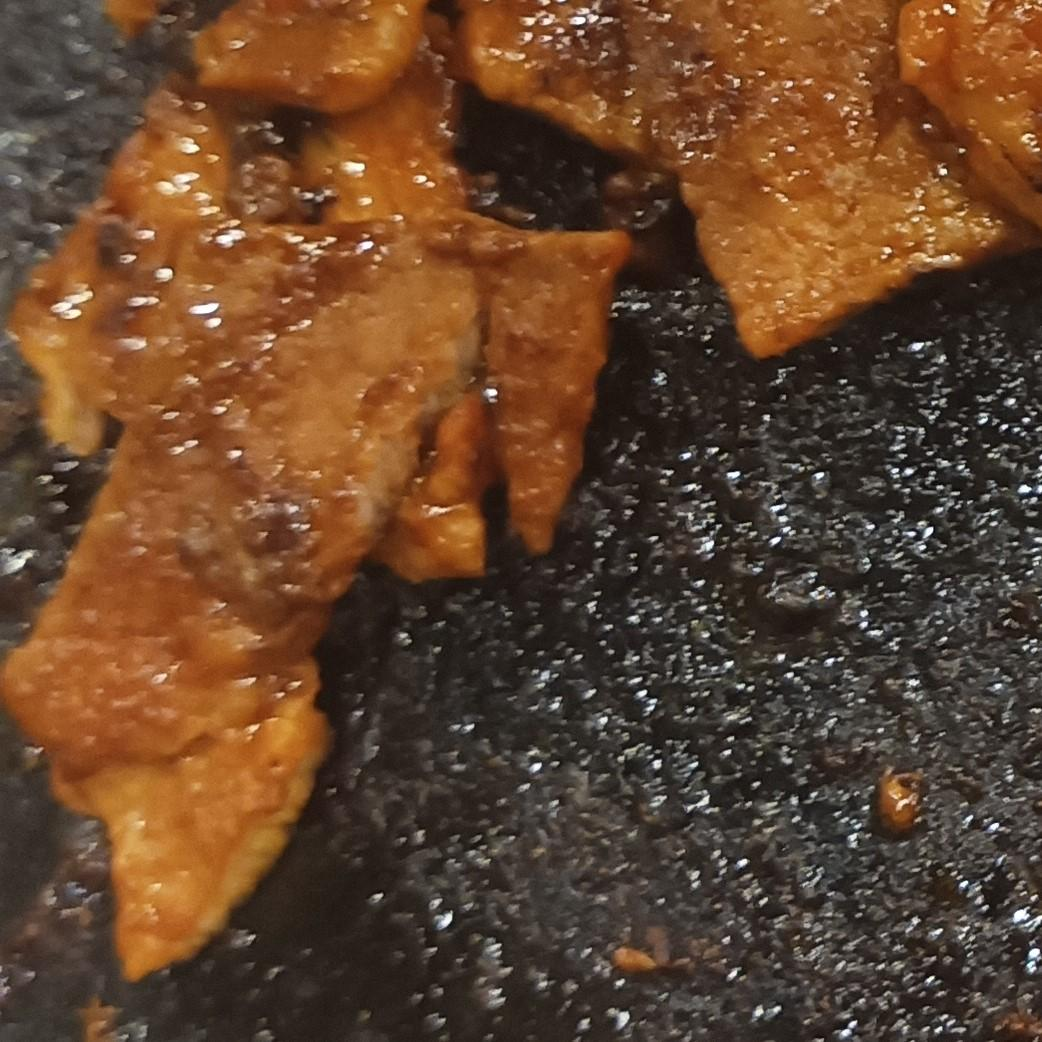Well-Cooked: (0, 51, 659, 986), (454, 0, 1041, 362)
